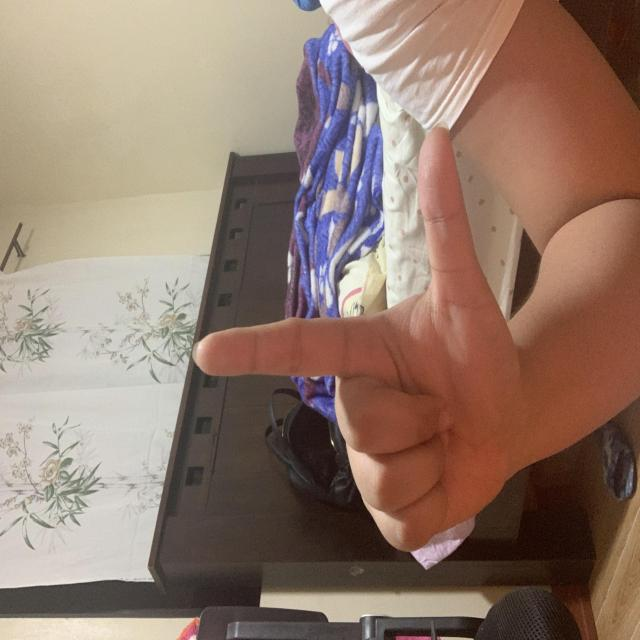L: (122, 190, 552, 530)
